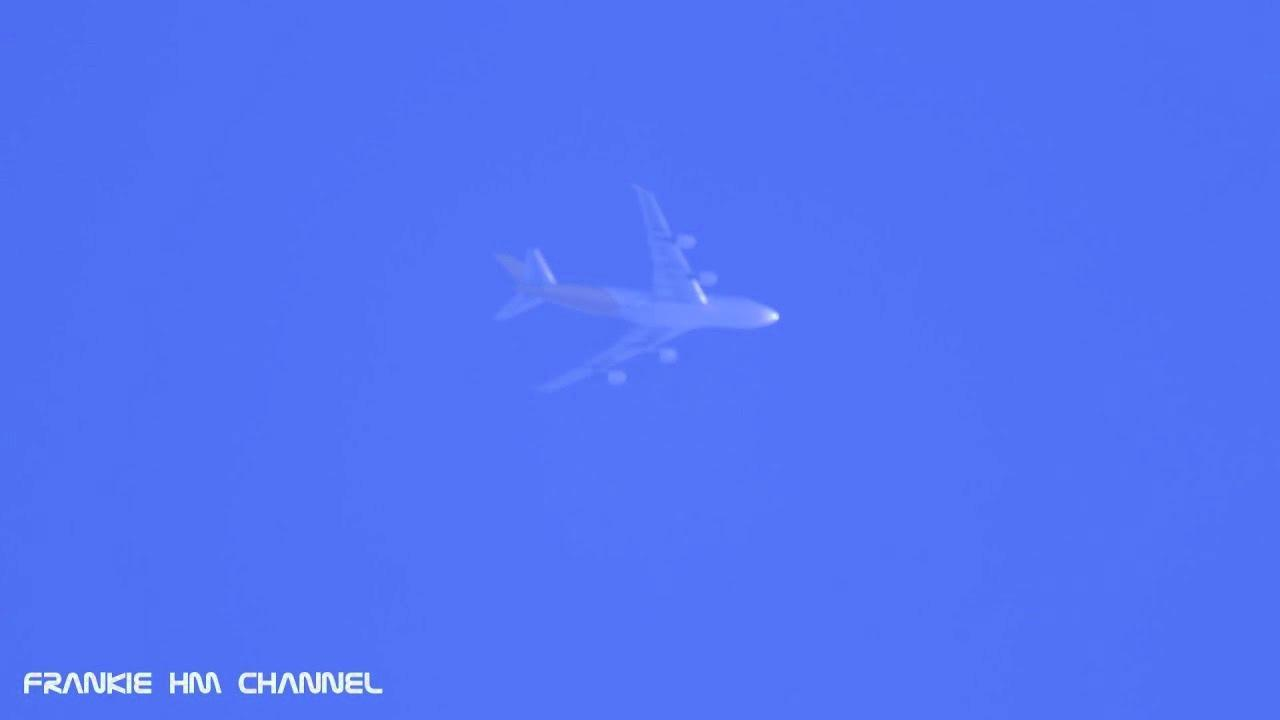Plane: (390, 214, 875, 430)
